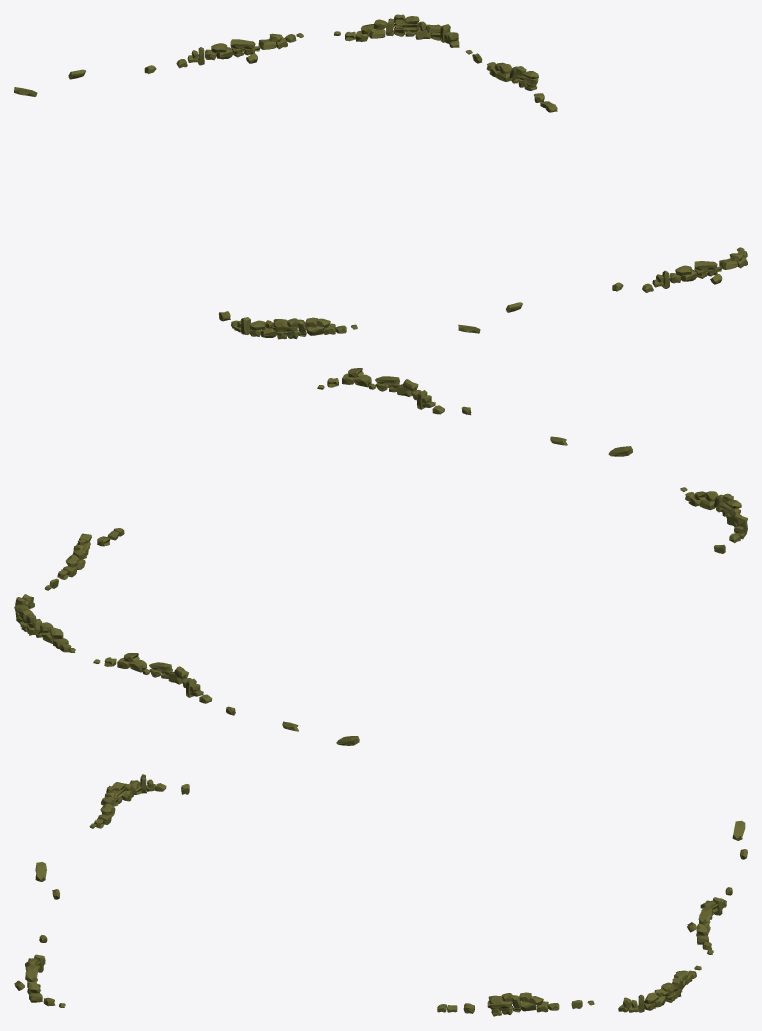
Rendered from rock_wall.FBX.
3 views of the same model, one above another, from view 1: azimuth 30°, elevation 25°; view 2: azimuth 150°, elevation 25°; view 3: azimuth 270°, elevation 25° (orthographic). The views are drawn at different scales.
Parts seen in each view (by area): view 1: rock022, rock023, rock020, rock025, rock021; view 2: rock025, rock022, rock023, rock020, rock021; view 3: rock021, rock023, rock020, rock022, rock025.
Boxes of the visible parts, box(x1,y1,x2,y2) form: rock022: box(14, 33, 303, 96); rock023: box(218, 311, 357, 339); rock020: box(334, 14, 459, 47); rock025: box(458, 247, 747, 333); rock021: box(465, 50, 557, 112); rock025: box(317, 368, 632, 456); rock022: box(93, 653, 359, 745); rock023: box(680, 487, 747, 553); rock020: box(14, 594, 75, 652); rock021: box(44, 528, 124, 590); rock021: box(437, 992, 594, 1016); rock023: box(89, 774, 189, 828); rock020: box(618, 965, 701, 1012); rock022: box(687, 820, 747, 954); rock025: box(14, 862, 65, 1007).
Size of the model in its own units: 111 by 5.59 by 151.
